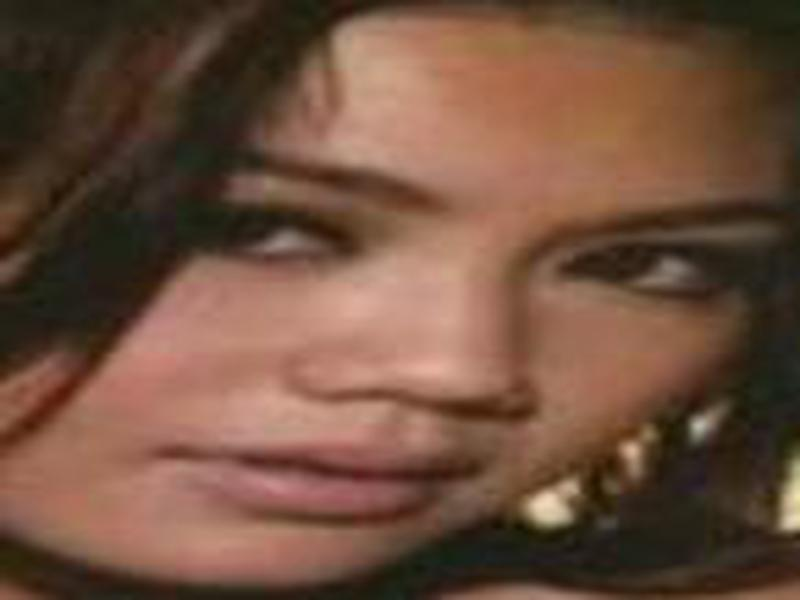without_mask: (38, 23, 776, 587)
